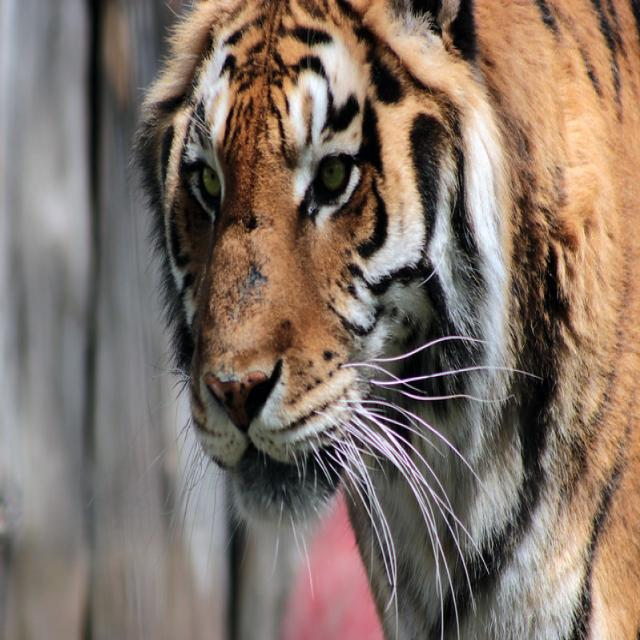Tiger: (120, 1, 637, 634)
